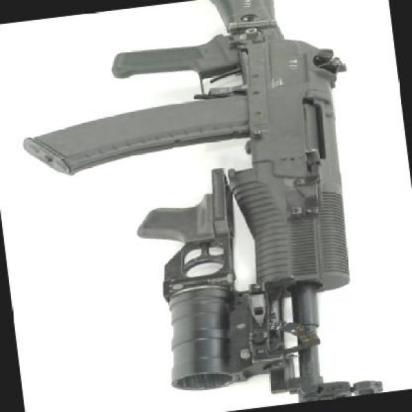Gun: (17, 0, 411, 412)
